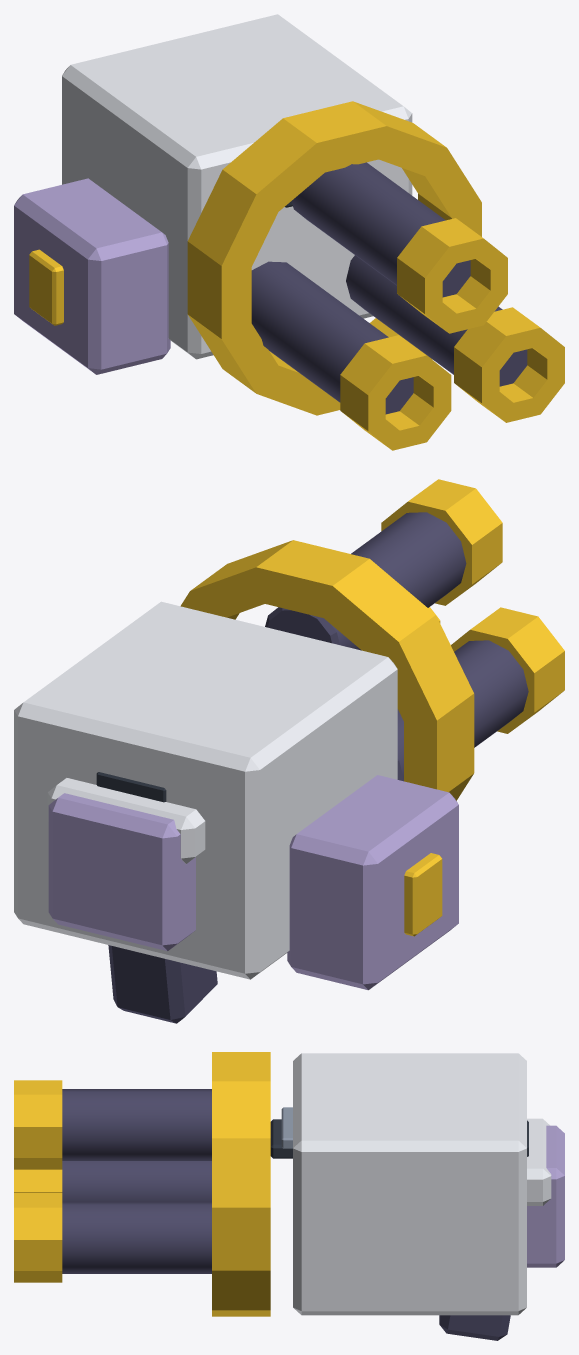
Rendered from Future_Gatling_v003.fbx.
3 renders of one model, top to bottom at view 1: azimuth 30°, elevation 25°; view 2: azimuth 150°, elevation 25°; view 3: azimuth 270°, elevation 25°, orthographic. The views are drawn at different scales.
Parts seen in each view (by area): view 1: Future_Gatling__RECEIVER_MESH, Future_Gatling__BARREL_MESH; view 2: Future_Gatling__RECEIVER_MESH, Future_Gatling__BARREL_MESH; view 3: Future_Gatling__RECEIVER_MESH, Future_Gatling__BARREL_MESH.
Boxes of the visible parts, x1,y1,x2,y2 form: Future_Gatling__RECEIVER_MESH: (14, 14, 481, 415); Future_Gatling__BARREL_MESH: (251, 162, 564, 450); Future_Gatling__RECEIVER_MESH: (14, 540, 474, 1023); Future_Gatling__BARREL_MESH: (265, 479, 564, 781); Future_Gatling__RECEIVER_MESH: (212, 1052, 564, 1340); Future_Gatling__BARREL_MESH: (14, 1080, 211, 1282).
Bounding box in the file's own units: 0.9567 × 0.8461 × 1.6.
